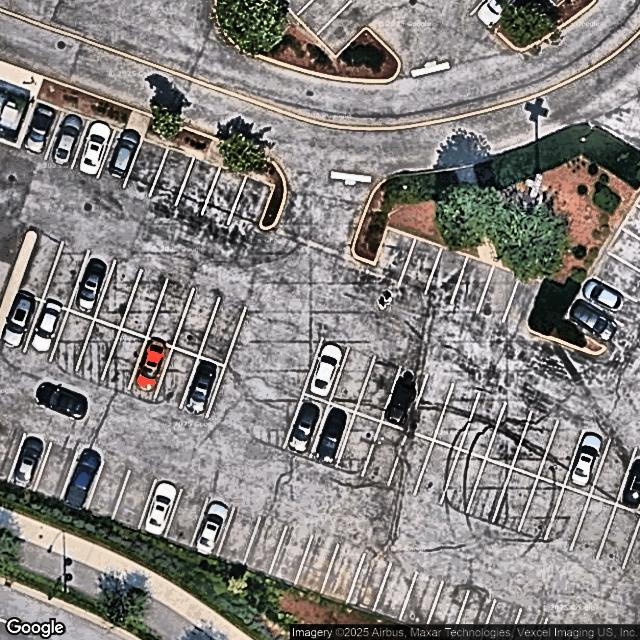car: (565, 296, 621, 345), (304, 339, 347, 401), (45, 109, 88, 171), (0, 288, 43, 350), (178, 357, 221, 419), (310, 404, 353, 466), (565, 427, 608, 489), (8, 429, 51, 490), (102, 124, 145, 185), (16, 102, 59, 163), (379, 371, 422, 432), (191, 497, 234, 558), (73, 118, 115, 180), (70, 253, 112, 315), (140, 475, 182, 537), (61, 446, 103, 508), (25, 298, 67, 359), (130, 336, 172, 397), (283, 396, 325, 457), (577, 274, 629, 318), (621, 449, 639, 510)
lot_boundary: (0, 100, 639, 639)
objects: (527, 279, 604, 354), (0, 231, 38, 335), (353, 212, 391, 265), (259, 184, 287, 229)
stall: (465, 458, 512, 525), (283, 392, 330, 459), (68, 252, 115, 319), (94, 262, 141, 328), (460, 392, 506, 459), (381, 364, 427, 431), (434, 383, 480, 450), (538, 419, 584, 486), (512, 410, 558, 477), (569, 496, 615, 563), (564, 429, 610, 496), (388, 431, 434, 498), (153, 347, 199, 414), (101, 328, 147, 395), (121, 270, 167, 337), (22, 299, 68, 366), (47, 309, 93, 376), (148, 279, 194, 346), (408, 374, 454, 440), (304, 336, 350, 402), (355, 355, 401, 421), (329, 347, 375, 413), (486, 402, 532, 468), (199, 298, 245, 364), (518, 477, 564, 543), (544, 487, 590, 553), (591, 438, 637, 504), (310, 404, 356, 470), (335, 412, 381, 478), (361, 422, 407, 488), (414, 440, 460, 506), (439, 449, 485, 515), (492, 468, 538, 534), (74, 320, 120, 386), (127, 338, 173, 404), (179, 356, 225, 422), (42, 244, 88, 310), (173, 288, 219, 354), (568, 296, 624, 349), (580, 274, 635, 325), (597, 505, 639, 570), (476, 264, 520, 326), (8, 430, 52, 492), (0, 290, 43, 353), (18, 236, 62, 297), (124, 138, 168, 199), (99, 128, 143, 189), (72, 118, 116, 179), (19, 101, 63, 162), (397, 237, 441, 298), (371, 227, 415, 288), (229, 177, 273, 238), (202, 166, 246, 227), (450, 255, 494, 316), (424, 247, 468, 308), (374, 561, 418, 622), (321, 542, 365, 603), (294, 533, 338, 594), (410, 374, 454, 435), (192, 495, 236, 556), (244, 512, 288, 573), (218, 502, 262, 563), (270, 523, 314, 584), (60, 450, 104, 511), (112, 468, 156, 529), (139, 476, 183, 537), (34, 442, 78, 503), (176, 157, 219, 218), (150, 147, 193, 208), (46, 110, 89, 171), (348, 552, 391, 613), (426, 579, 469, 640), (402, 569, 445, 630), (87, 459, 130, 520), (166, 486, 209, 547), (593, 251, 639, 304), (503, 274, 542, 330), (455, 592, 495, 638), (480, 603, 520, 639), (0, 424, 23, 481), (610, 228, 639, 270), (511, 610, 547, 639)
